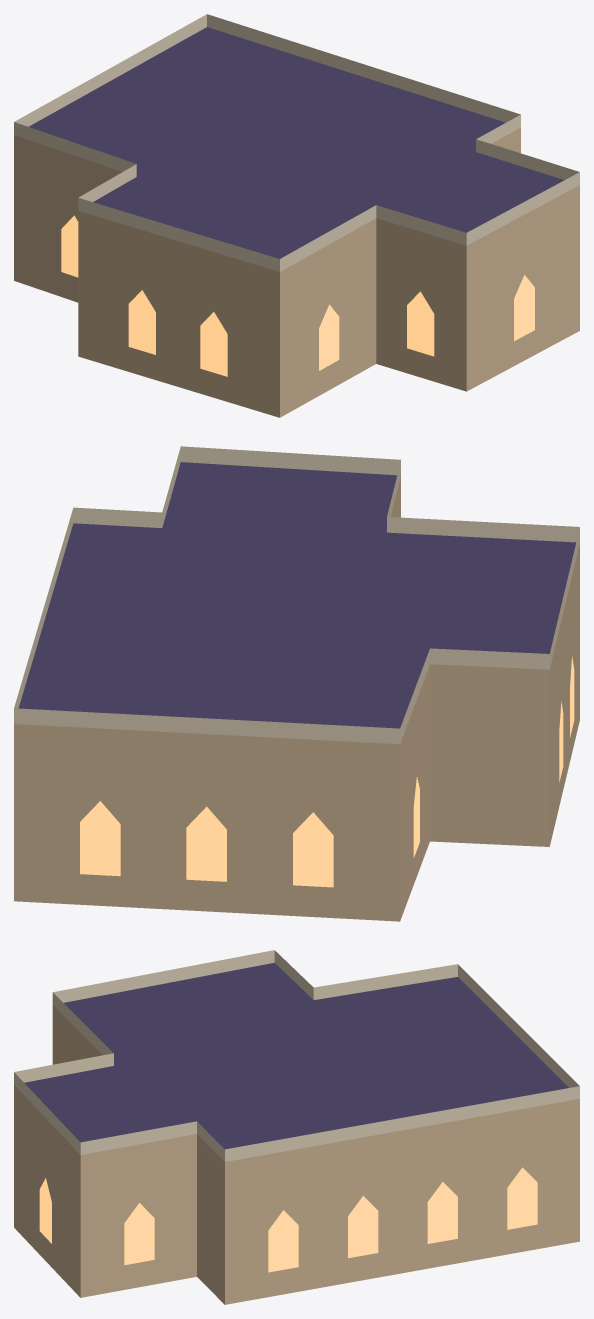
The model's file is b-010-apps-international-house.glb.
3 views of the same model, one above another, from view 1: azimuth 30°, elevation 25°; view 2: azimuth 150°, elevation 25°; view 3: azimuth 270°, elevation 25° (orthographic). The views are drawn at different scales.
Parts seen in each view (by area): view 1: campus/b-010-apps-international-house-0; view 2: campus/b-010-apps-international-house-0; view 3: campus/b-010-apps-international-house-0.
Boxes of the visible parts, x1=… form: campus/b-010-apps-international-house-0: x1=14, y1=14, x2=579, y2=417; campus/b-010-apps-international-house-0: x1=14, y1=446, x2=579, y2=921; campus/b-010-apps-international-house-0: x1=14, y1=950, x2=579, y2=1304.
Bounding box in the file's own units: 18.56 × 6.75 × 22.26.
